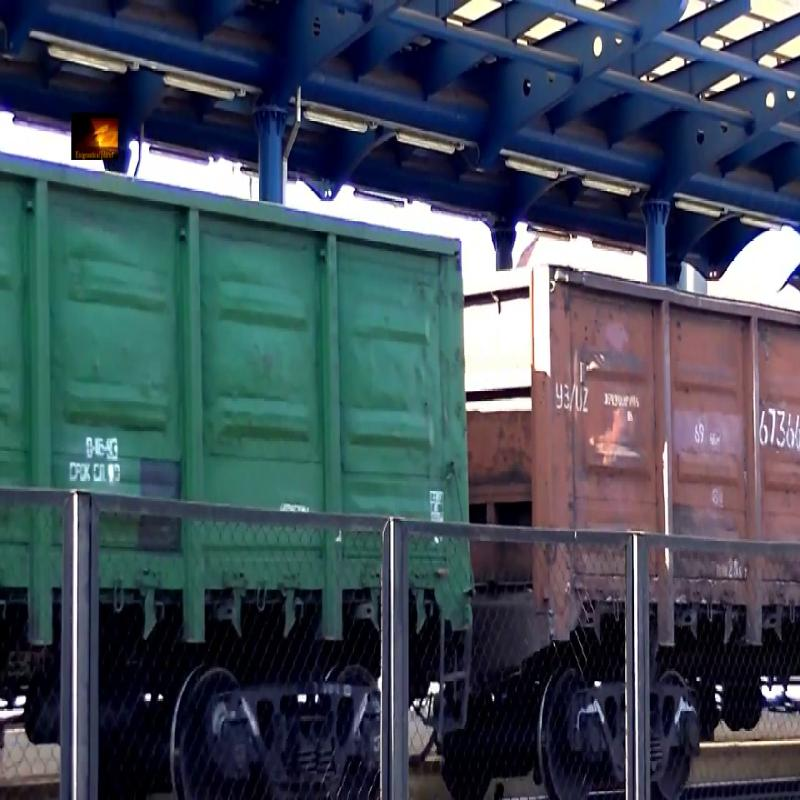train: (2, 47, 529, 771), (569, 46, 800, 766)
